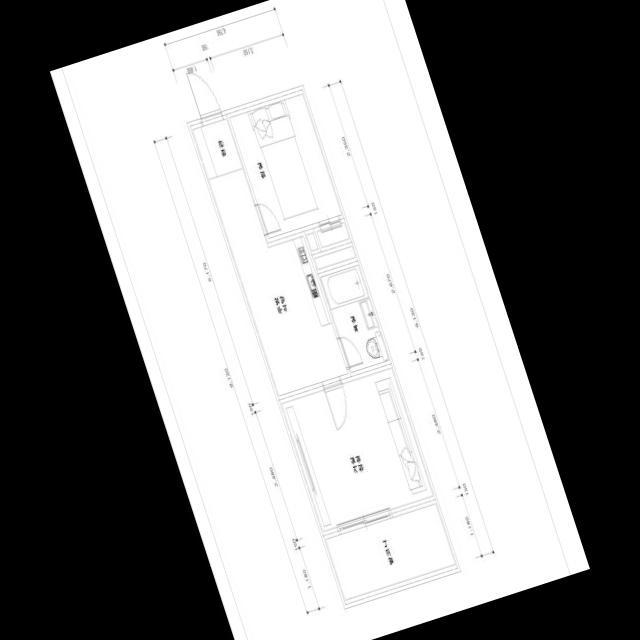background: (50, 0, 590, 640)
space_balconi: (326, 503, 455, 600)
space_bedroom: (230, 93, 342, 238)
space_dressroom: (317, 222, 349, 247)
space_front: (192, 118, 242, 178)
space_kitchen: (209, 169, 348, 395)
space_living_room: (282, 368, 433, 531)
space_other: (315, 246, 355, 269), (307, 232, 319, 250)
space_toilet: (321, 264, 389, 372)
